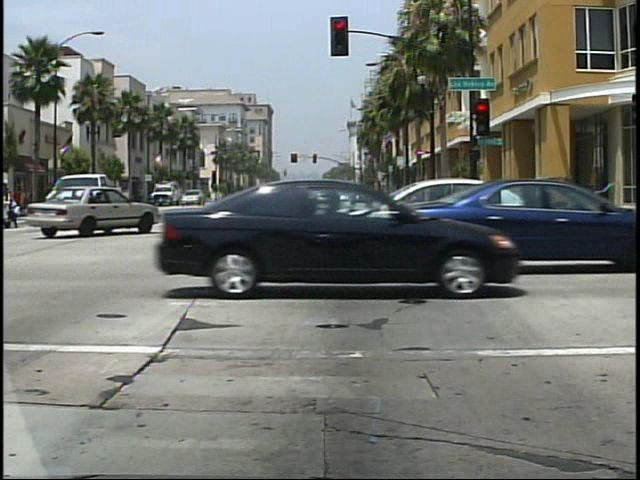person: (2, 172, 20, 230)
